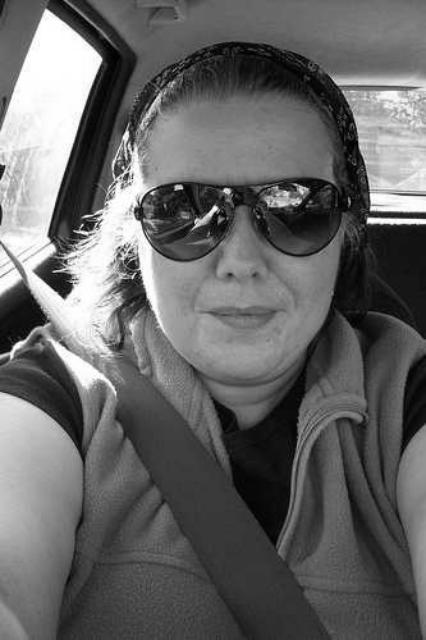Seatbelt: (0, 226, 340, 640)
